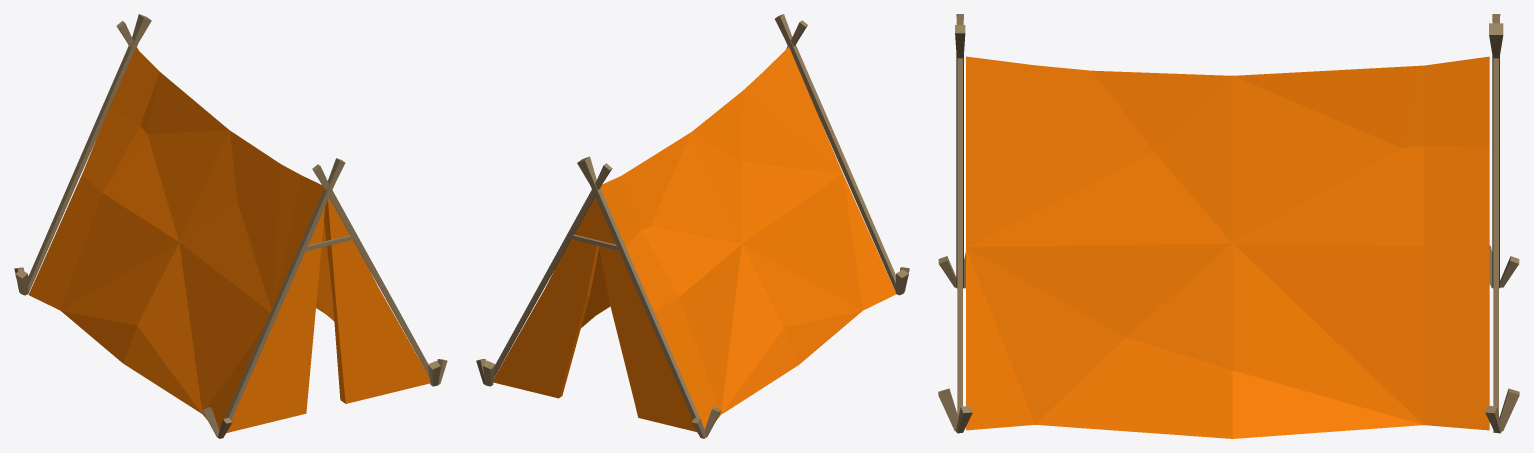
The model's file is model_polytope_tent03.fbx.
3 views of the same model, side by side, from view 1: azimuth 30°, elevation 25°; view 2: azimuth 150°, elevation 25°; view 3: azimuth 270°, elevation 25° (orthographic). The views are drawn at different scales.
Visible parts, largest first — view 1: model_polytope_tent03; view 2: model_polytope_tent03; view 3: model_polytope_tent03.
Part boxes in pixels (x1,y1,x2,y2): model_polytope_tent03: [14, 14, 447, 438]; model_polytope_tent03: [476, 14, 909, 438]; model_polytope_tent03: [938, 14, 1519, 438].
Bounding box in the file's own units: 249 × 246 × 380.
